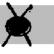not correct: (0, 0, 34, 47)
